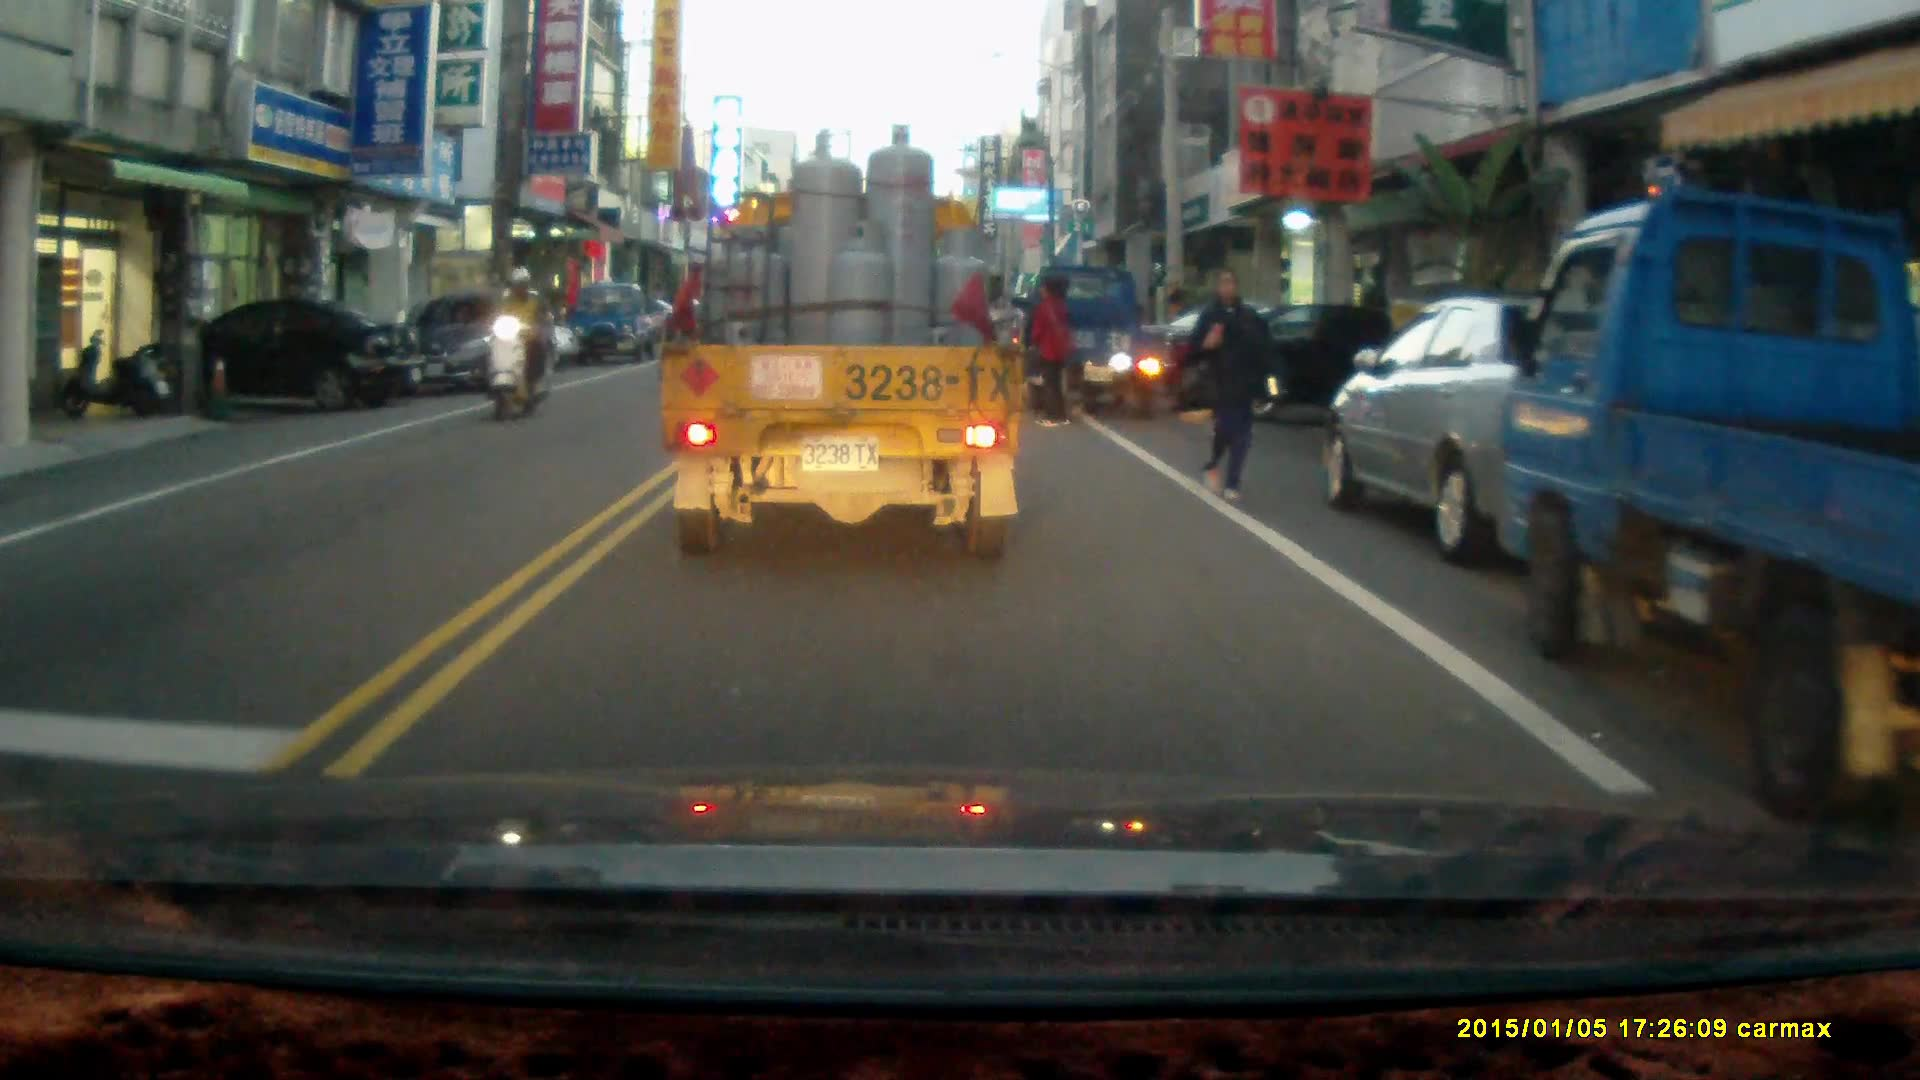pedestrian: (1184, 264, 1283, 504), (1024, 275, 1072, 422)
rider: (484, 266, 553, 422)
vehicle: (1500, 181, 1920, 804), (663, 124, 1027, 567), (1322, 292, 1673, 570), (1166, 297, 1462, 435), (107, 295, 419, 412), (1013, 261, 1171, 416), (409, 289, 560, 396), (569, 279, 670, 366)
